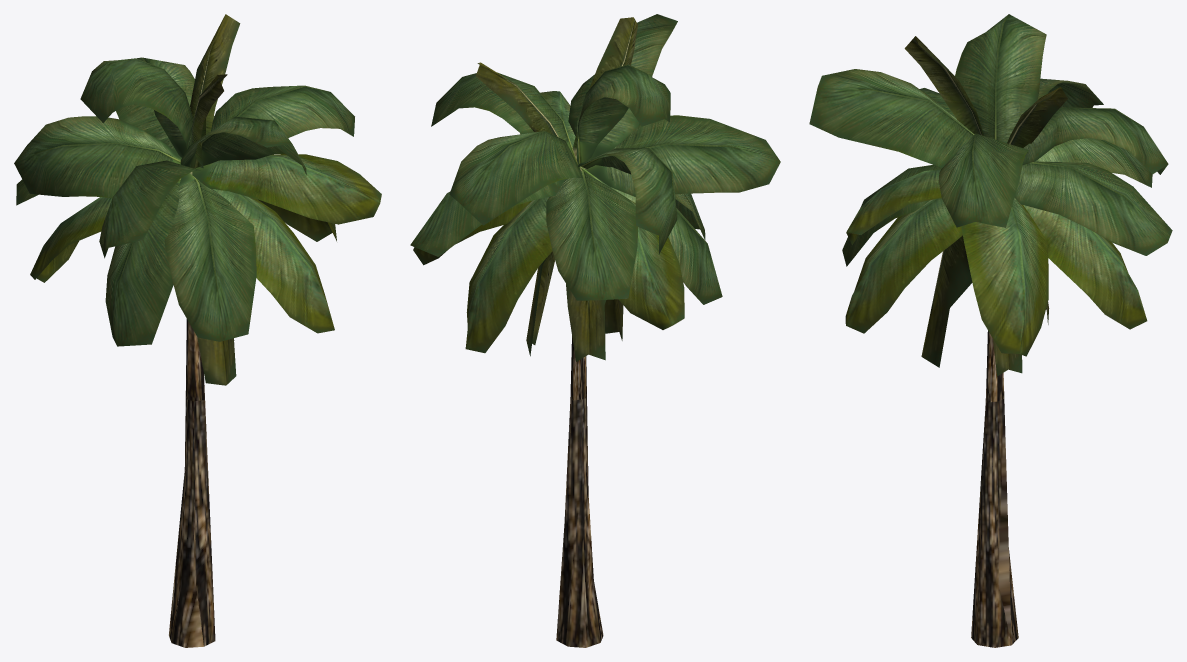
The model's file is cocos_tree.fbx.
The picture shows the model from 3 angles, left to right: view 1: azimuth 30°, elevation 25°; view 2: azimuth 150°, elevation 25°; view 3: azimuth 270°, elevation 25°; orthographic projection.
Visible parts, largest first — view 1: polySurface39; view 2: polySurface39; view 3: polySurface39.
Part boxes in pixels (<box>): polySurface39: <box>14,14,381,647</box>; polySurface39: <box>410,14,780,647</box>; polySurface39: <box>809,14,1172,647</box>.
Bounding box in the file's own units: 41.18 × 78.95 × 43.66.
Materials: 1 (1 with a texture image).
